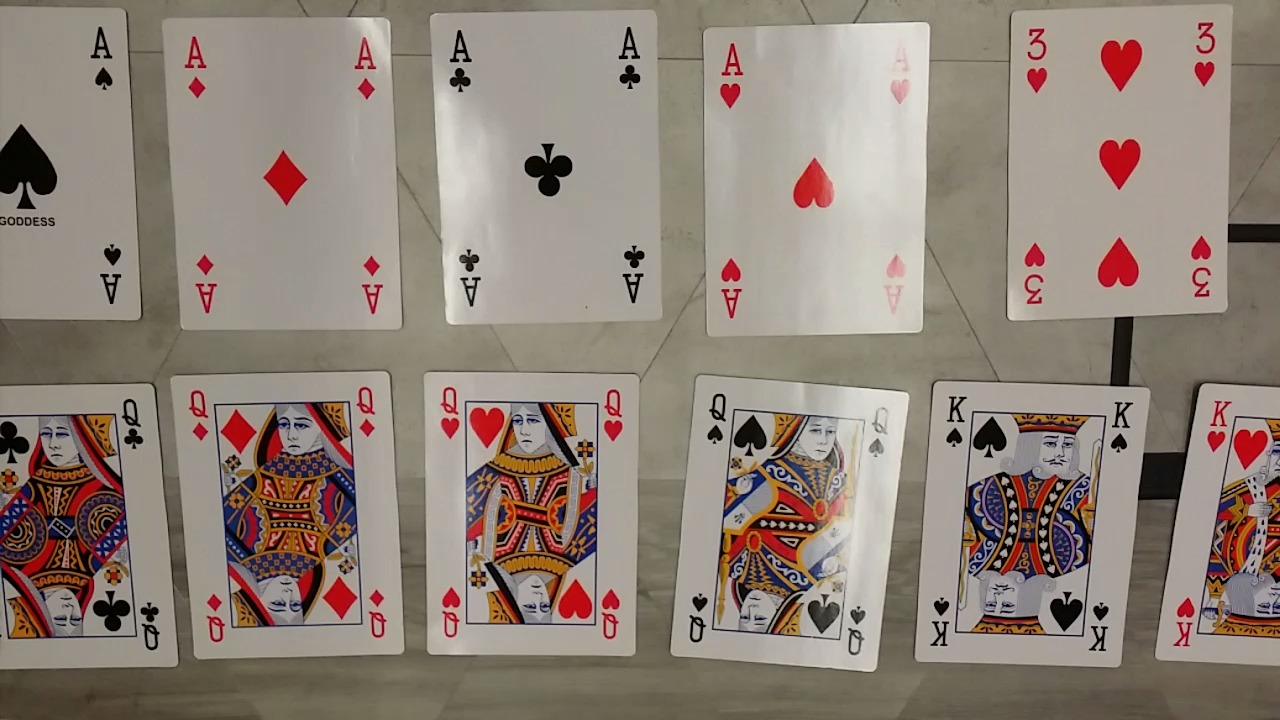1_club: (430, 9, 664, 327)
1_diamond: (161, 14, 405, 329)
1_heart: (702, 22, 940, 336)
1_spade: (0, 4, 141, 322)
3_heart: (1008, 5, 1229, 320)
king_heart: (1155, 383, 1280, 668)
king_spade: (912, 375, 1153, 668)
queen_club: (0, 385, 180, 673)
queen_diamond: (170, 369, 407, 661)
queen_heart: (419, 369, 643, 662)
queen_spade: (666, 373, 909, 671)
